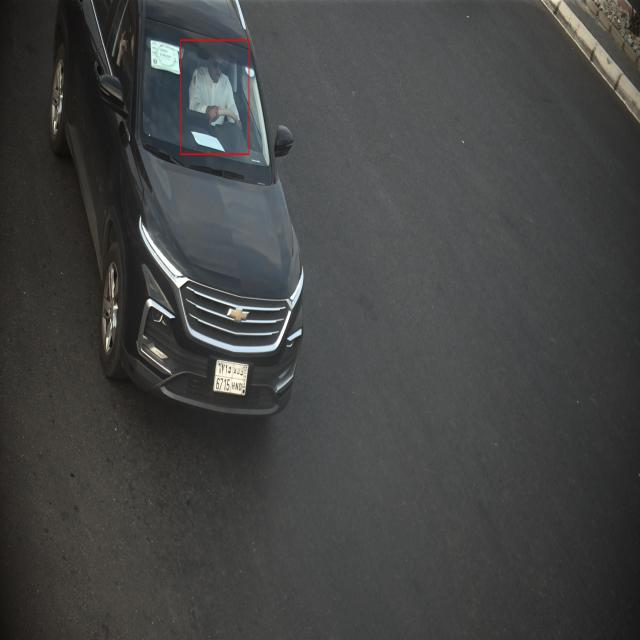windshield: (136, 15, 278, 190)
